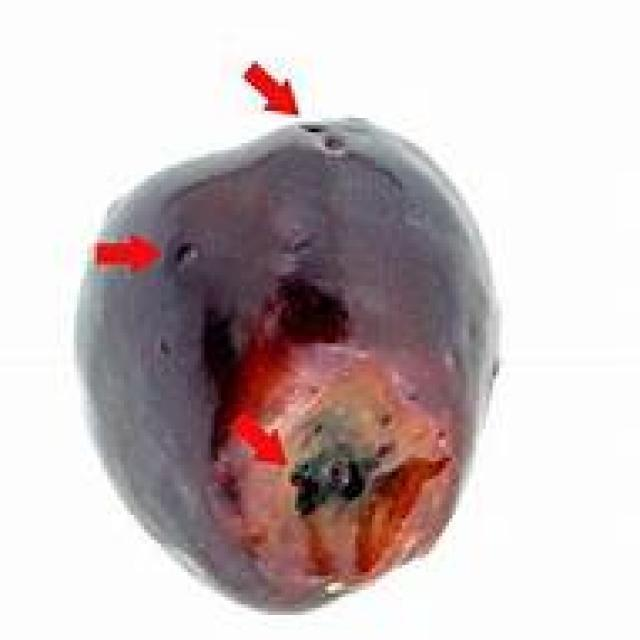Anthracnose: (74, 119, 501, 596)
